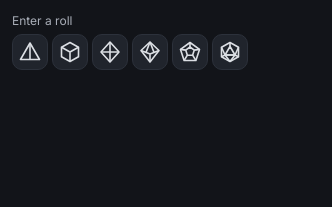
Test: DiceBlock › goes from the face to the modifiers, from −5 to +15
Click the button named "d20" at [230, 52], box [212,34,248,70]
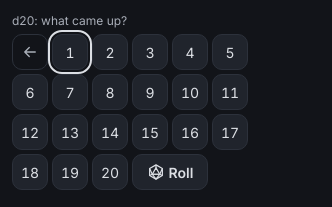
Click the button "14" at [110, 132], box [92,114,128,150]
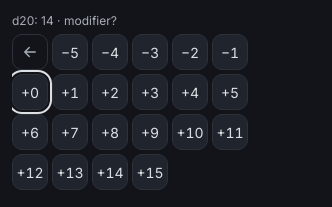
Expected: the text "d20: 14 · modifier?" is shown, [12,13,117,28]
Expected: the button "+0" is shown, [12,74,48,110]
